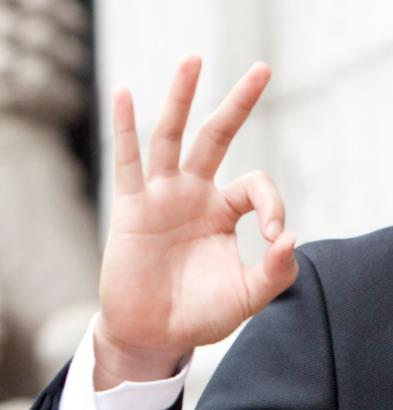left: (83, 54, 307, 336)
